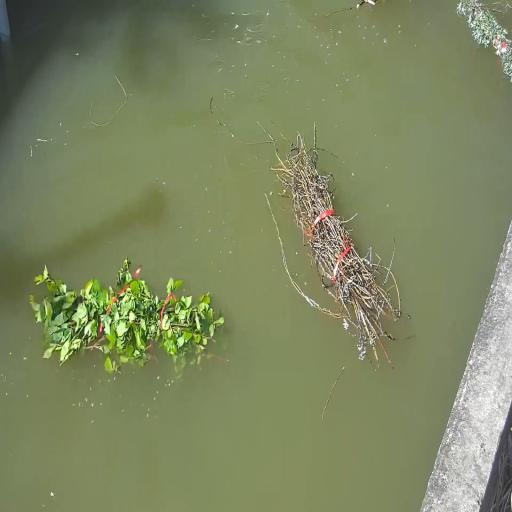twig: (270, 124, 401, 363), (30, 259, 223, 371), (457, 0, 512, 81)
